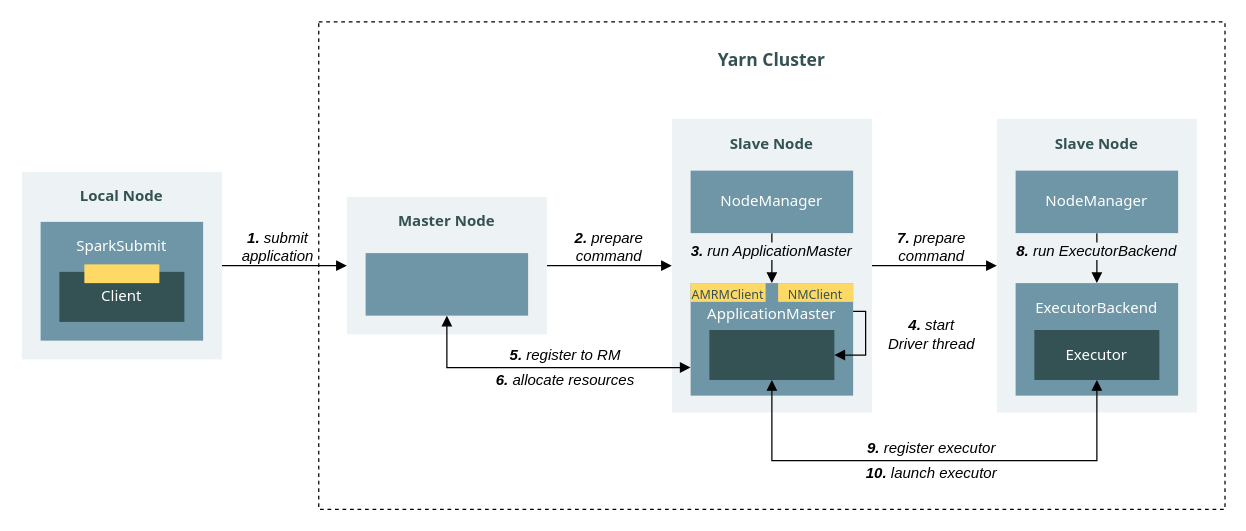
The diagram is 1246 pixels wide and 531 high, and some of its shapes have lost their labels. The box of each missing label's shape, as (x1, y1, x2, y2) in pixels:
Driver: (709, 329, 834, 379)
ResourceManager: (365, 252, 528, 315)
YarnClient: (84, 264, 159, 282)
